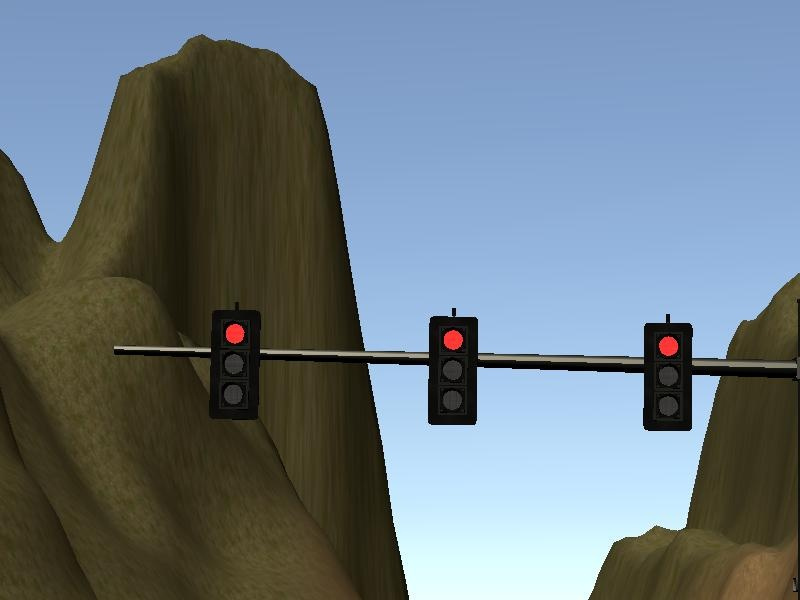red: (639, 318, 693, 438), (425, 315, 479, 435), (209, 307, 263, 427)
